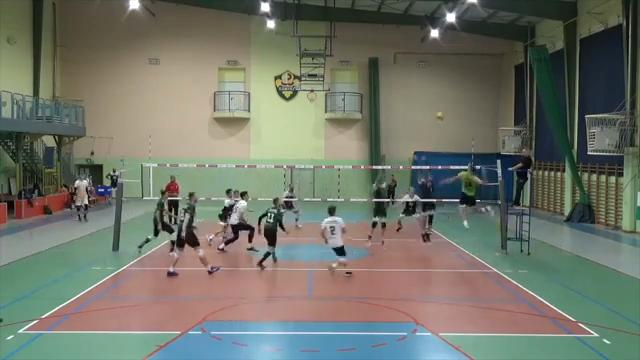attacco: (436, 158, 501, 235)
muro: (409, 151, 437, 246), (366, 148, 390, 254)
